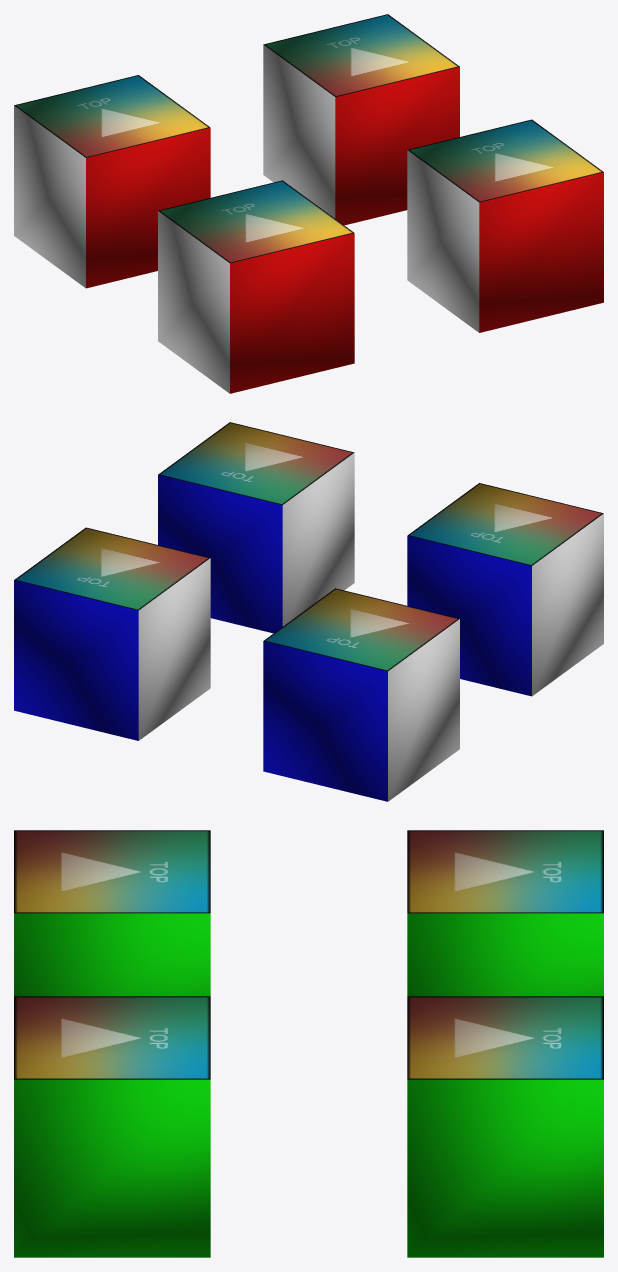
Rendered from cubes.converted.obj.
3 views of the same model, one above another, from view 1: azimuth 30°, elevation 25°; view 2: azimuth 150°, elevation 25°; view 3: azimuth 270°, elevation 25° (orthographic). The views are drawn at different scales.
Visible parts, largest first — view 1: 0; view 2: 0; view 3: 0.
Part boxes in pixels (x1,y1,x2,y2): 0: (14, 14, 603, 393); 0: (14, 422, 603, 801); 0: (14, 830, 603, 1257).
Size of the model in its own units: 3 by 1 by 3.
Materials: 5 (1 with a texture image).
